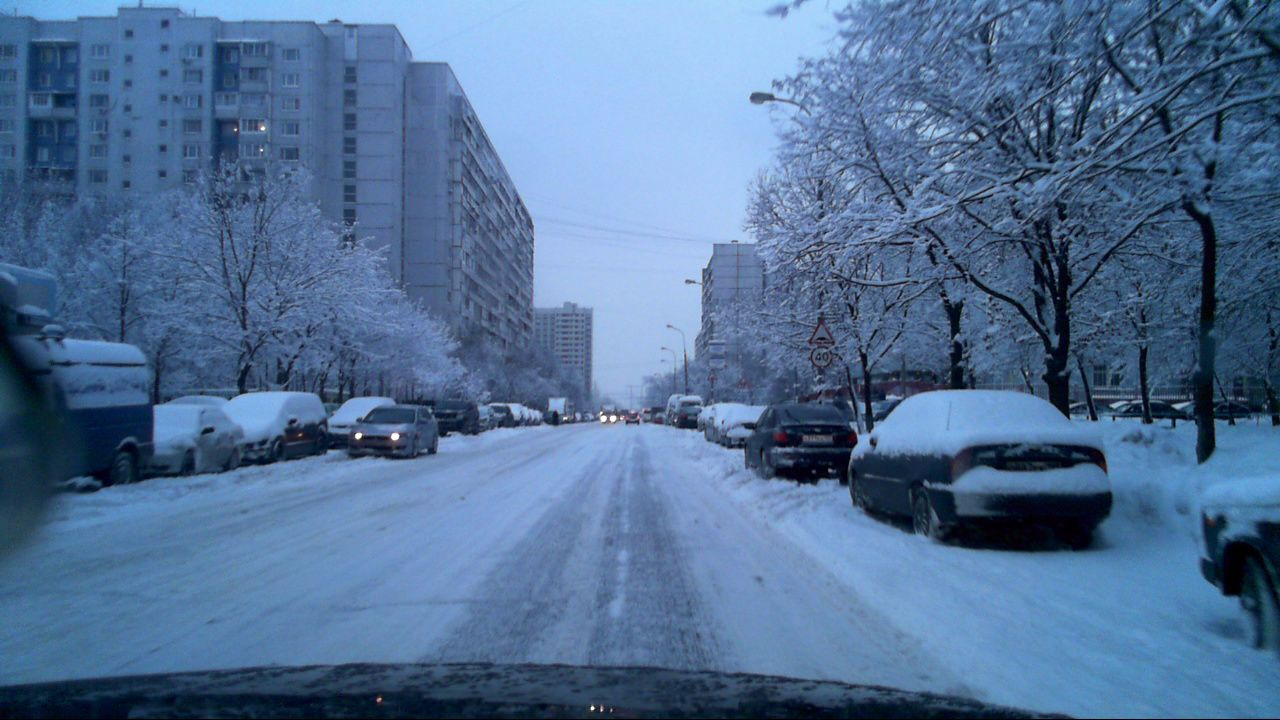speed_warning_40: (810, 346, 832, 370)
